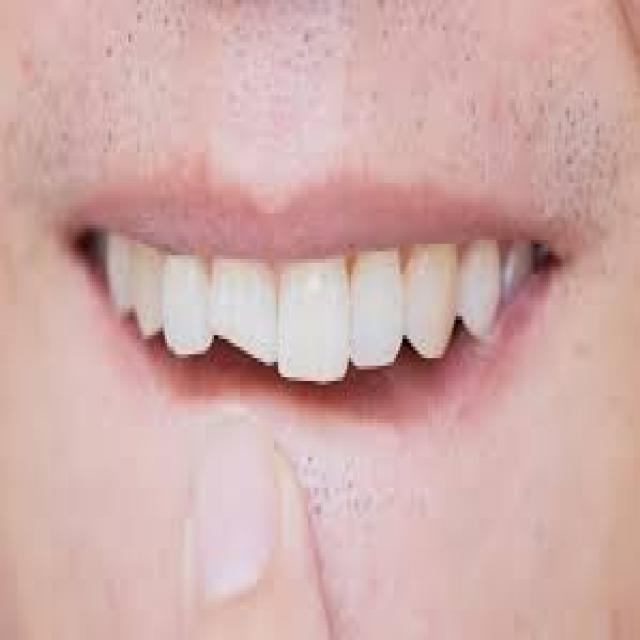tooth: (278, 263, 349, 373), (214, 256, 276, 350), (165, 252, 210, 351), (413, 244, 454, 346), (357, 255, 396, 358), (462, 252, 499, 336), (132, 248, 162, 332), (100, 225, 128, 301), (505, 236, 531, 290)
